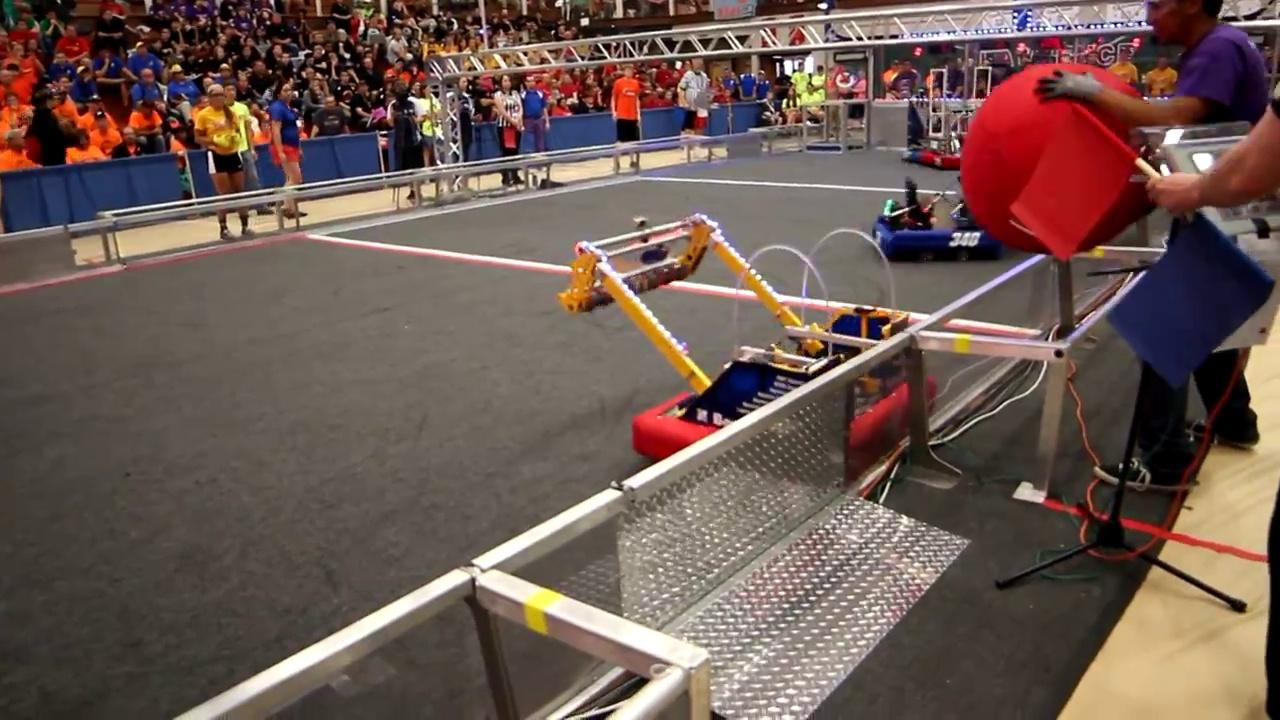robot: (559, 211, 938, 490), (871, 174, 1006, 262), (915, 65, 996, 173)
